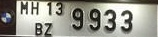character: (119, 9, 134, 33), (103, 9, 117, 32), (88, 8, 101, 32), (71, 7, 84, 30), (19, 1, 29, 15), (30, 1, 40, 15), (43, 22, 52, 37), (33, 22, 42, 36), (55, 2, 63, 16), (46, 1, 52, 16)
